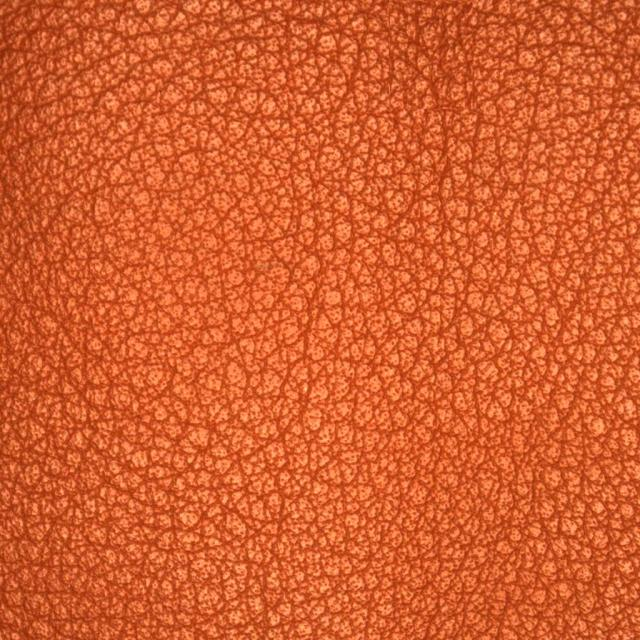Healed Injury: (386, 23, 530, 233)
